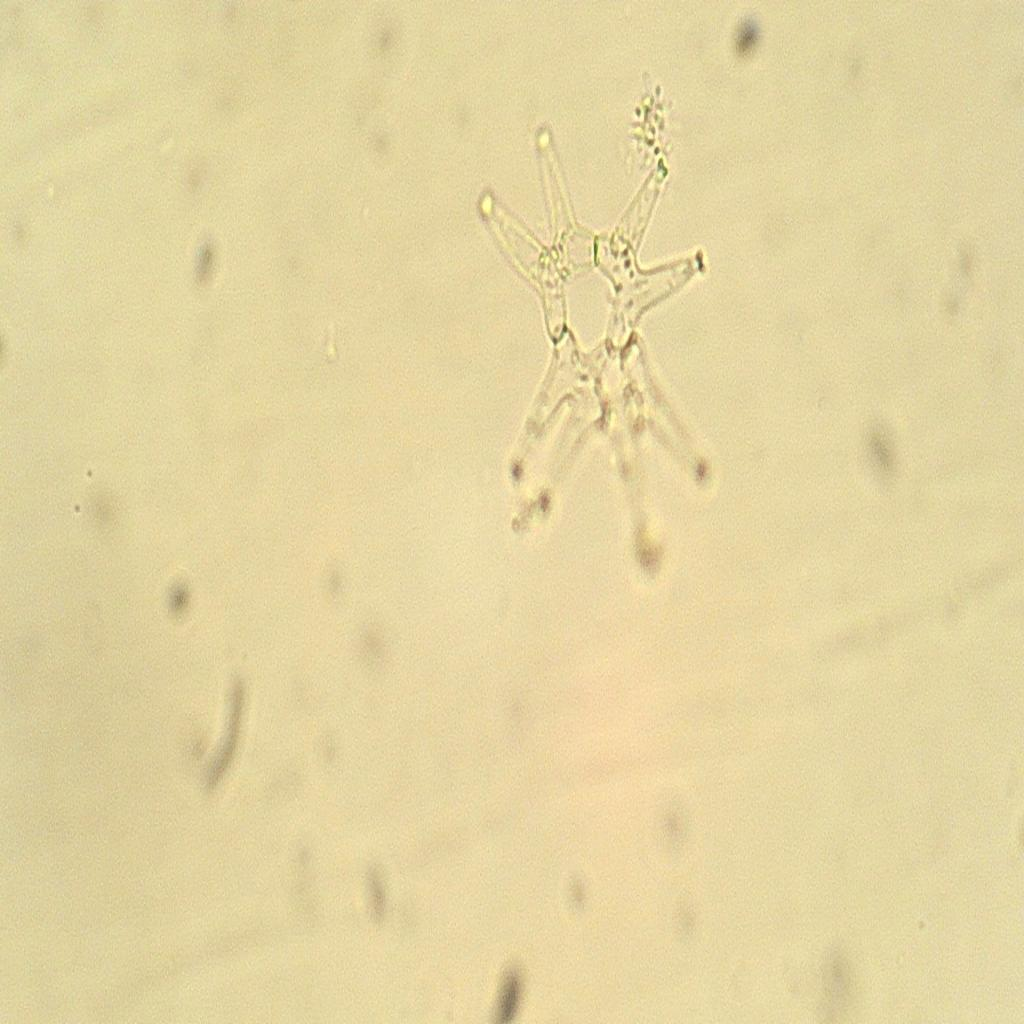Pediastrum_75TH: (463, 121, 740, 613)
